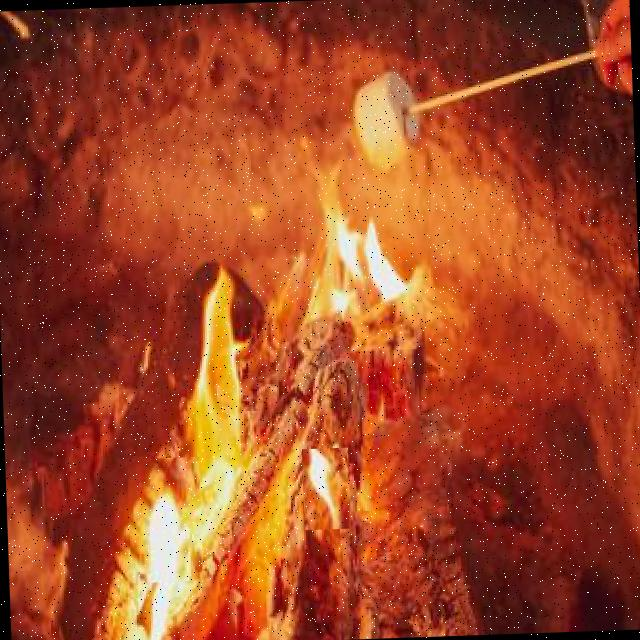fire: (304, 186, 424, 352), (127, 457, 203, 582), (302, 447, 351, 530)
